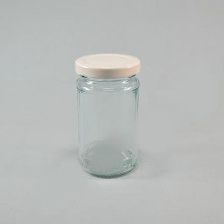bottle: (68, 48, 148, 182)
